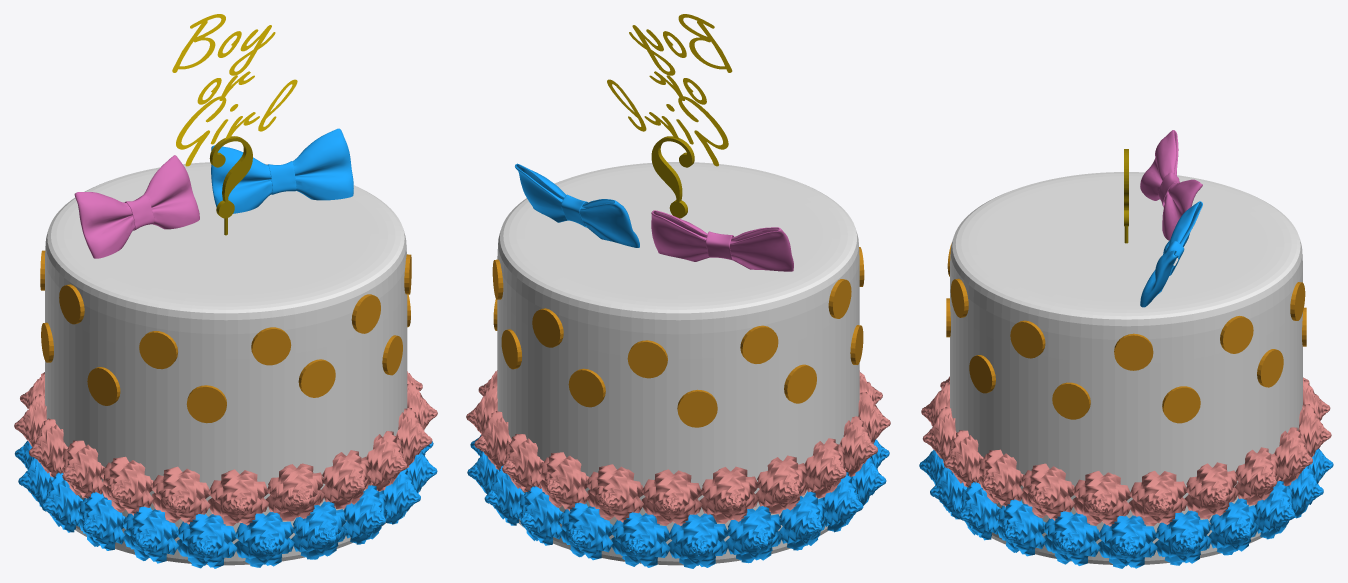
File: Gender_Reveal_5.glb
3 renders of one model, left to right at view 1: azimuth 30°, elevation 25°; view 2: azimuth 150°, elevation 25°; view 3: azimuth 270°, elevation 25°, orthographic. The views are drawn at different scales.
Visible parts, largest first — view 1: Circle, Swirl3.001, Swirl3, tie_front.002, tie_front.001, Text, Text.001, Cylinder.016, Cylinder.013, Cylinder.014, Cylinder, Cylinder.017 (+3 smaller); view 2: Circle, Swirl3.001, Swirl3, tie_front.001, tie_front.002, Text, Text.001, Cylinder.019, Cylinder.007, Cylinder.001, Cylinder.020, Cylinder.018 (+3 smaller); view 3: Circle, Swirl3.001, Swirl3, tie_front.001, tie_front.002, Cylinder.010, Cylinder.023, Cylinder.022, Cylinder.011, Cylinder.009, Cylinder.024, Cylinder.021 (+1 smaller).
Part boxes in pixels (bbox=[...]): Circle: bbox=[45, 162, 407, 565]; Swirl3.001: bbox=[14, 371, 437, 525]; Swirl3: bbox=[14, 440, 437, 568]; tie_front.002: bbox=[211, 128, 353, 213]; tie_front.001: bbox=[74, 155, 199, 258]; Text: bbox=[172, 14, 297, 166]; Text.001: bbox=[209, 136, 252, 235]; Cylinder.016: bbox=[186, 385, 226, 423]; Cylinder.013: bbox=[251, 327, 291, 365]; Cylinder.014: bbox=[139, 331, 177, 369]; Cylinder: bbox=[298, 359, 335, 397]; Cylinder.017: bbox=[87, 367, 120, 405]; Circle: bbox=[497, 162, 859, 565]; Swirl3.001: bbox=[466, 370, 890, 525]; Swirl3: bbox=[467, 435, 889, 568]; tie_front.001: bbox=[651, 210, 793, 271]; tie_front.002: bbox=[515, 163, 639, 247]; Text: bbox=[607, 14, 732, 166]; Text.001: bbox=[651, 136, 694, 218]; Cylinder.019: bbox=[677, 389, 717, 427]; Cylinder.007: bbox=[627, 340, 667, 378]; Cylinder.001: bbox=[740, 325, 778, 363]; Cylinder.020: bbox=[568, 368, 605, 407]; Cylinder.018: bbox=[784, 364, 816, 403]; Circle: bbox=[950, 172, 1302, 564]; Swirl3.001: bbox=[921, 376, 1331, 526]; Swirl3: bbox=[919, 448, 1333, 568]; tie_front.001: bbox=[1140, 130, 1202, 240]; tie_front.002: bbox=[1140, 201, 1202, 307]; Cylinder.010: bbox=[1114, 333, 1153, 370]; Cylinder.023: bbox=[1052, 382, 1090, 419]; Cylinder.022: bbox=[1162, 386, 1200, 423]; Cylinder.011: bbox=[1010, 320, 1045, 358]; Cylinder.009: bbox=[1220, 316, 1253, 353]; Cylinder.024: bbox=[969, 355, 995, 393]; Cylinder.021: bbox=[1257, 349, 1283, 387].
Size of the model in its own units: 0.1391 by 0.173 by 0.1391.
